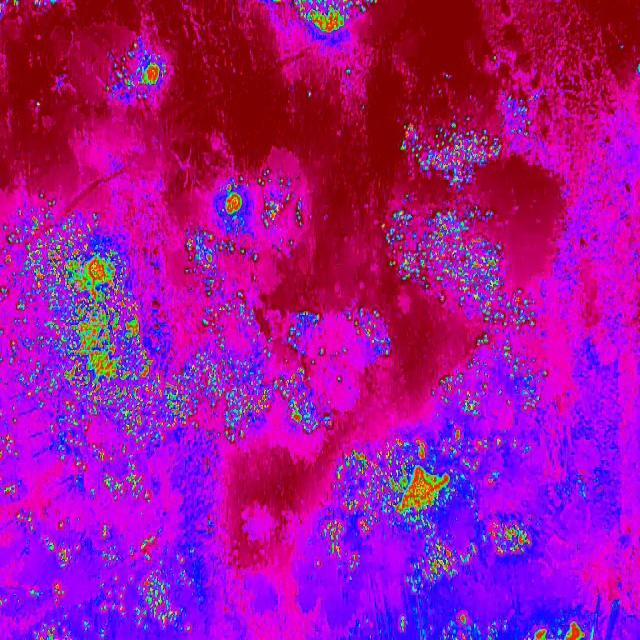fire: (0, 195, 224, 640), (311, 435, 537, 590), (196, 300, 393, 444), (184, 174, 309, 348), (378, 201, 538, 331), (432, 332, 552, 438), (394, 113, 503, 196), (390, 607, 587, 640), (102, 42, 173, 112), (264, 0, 380, 36), (500, 86, 544, 140)
